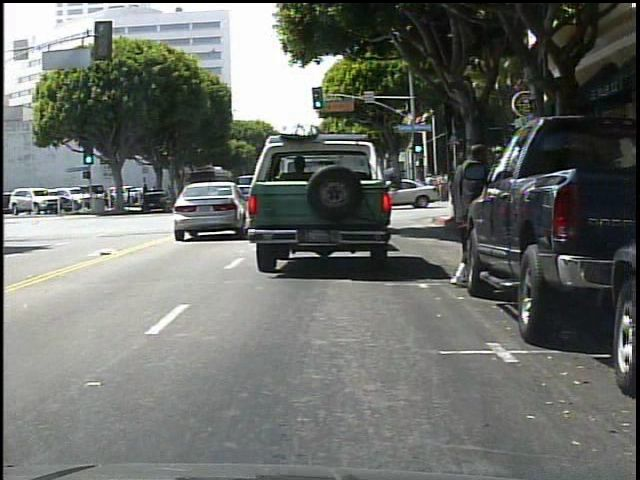person: (447, 143, 498, 280), (425, 171, 435, 186)
